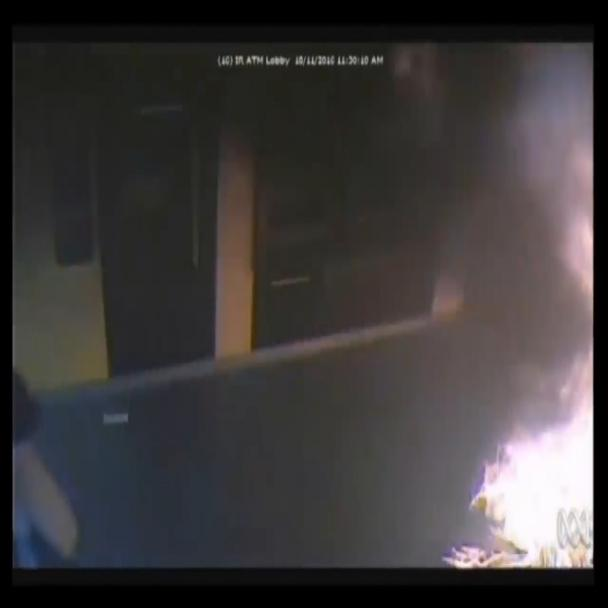Fire: (294, 58, 588, 562)
